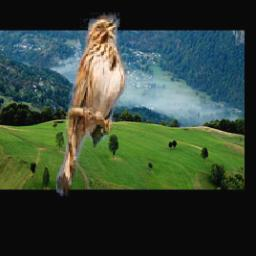Sparrow: (56, 13, 127, 197)
